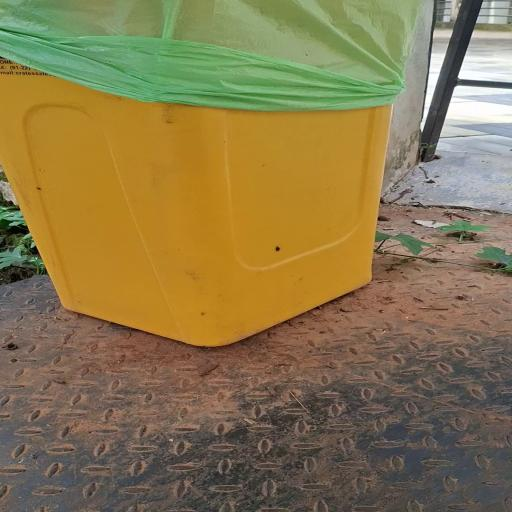Nilkamal-dustbin-detection: (0, 0, 420, 346)
